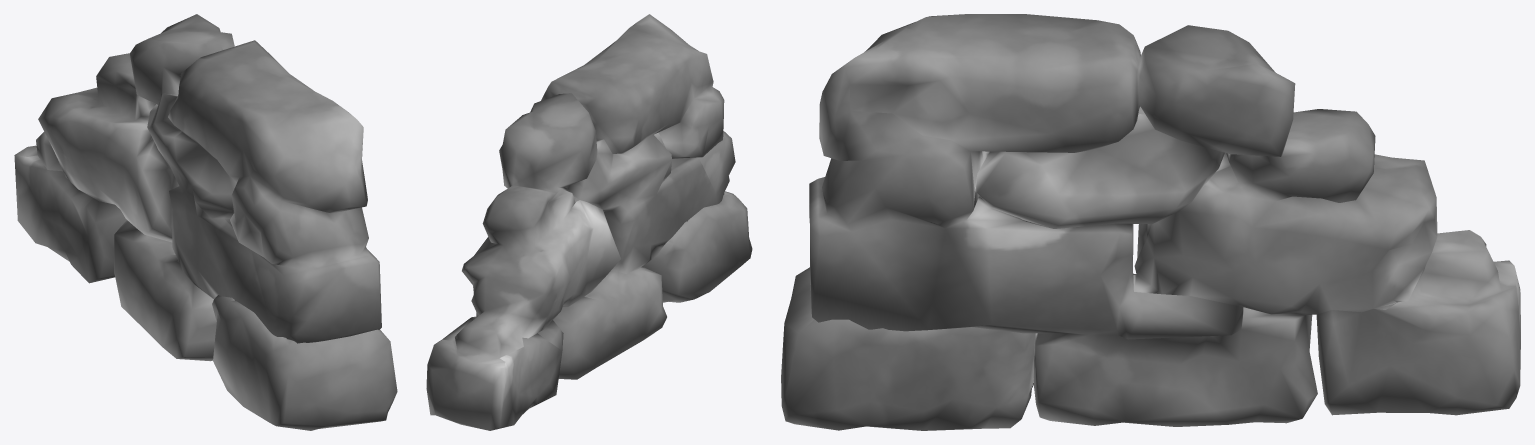
File: SM_WallBricks_02a.fbx
3 views of the same model, side by side, from view 1: azimuth 30°, elevation 25°; view 2: azimuth 150°, elevation 25°; view 3: azimuth 270°, elevation 25° (orthographic). The views are drawn at different scales.
Visible parts, largest first — view 1: SM_WallBricks_02a_LOD0; view 2: SM_WallBricks_02a_LOD0; view 3: SM_WallBricks_02a_LOD0.
Boxes of the visible parts, <box> form: SM_WallBricks_02a_LOD0: <box>14,14,397,430</box>; SM_WallBricks_02a_LOD0: <box>426,14,752,430</box>; SM_WallBricks_02a_LOD0: <box>781,14,1520,430</box>.
Bounding box in the file's own units: 59.32 × 247 × 138.
